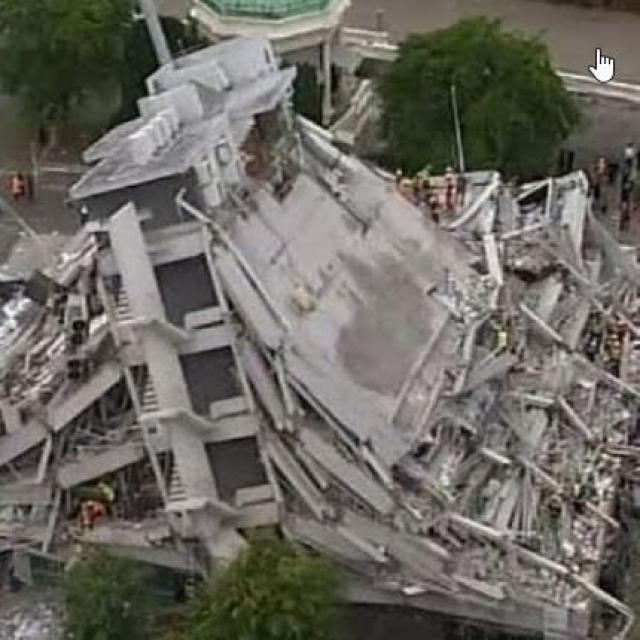collapsed_building: (81, 74, 638, 612)
